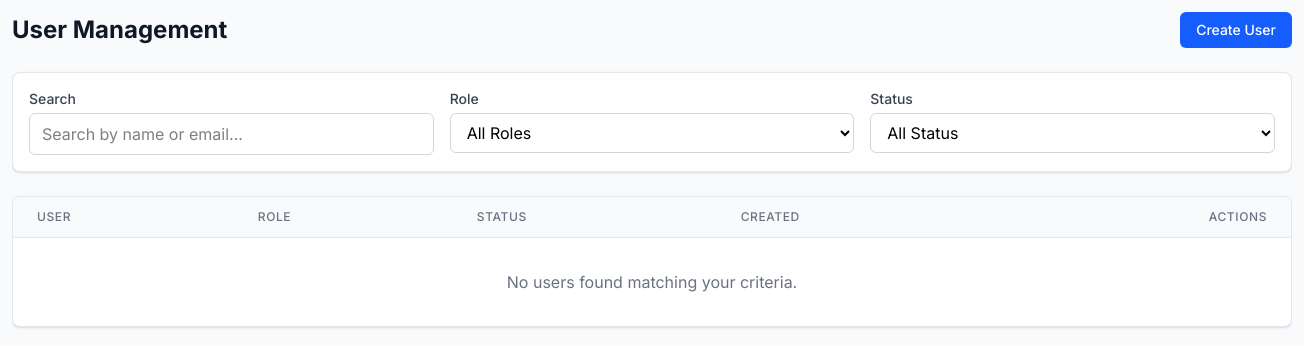
Test case: UserList › Filtering › filters users by role
The width and height of the screenshot is (1304, 345).
Step 1. Select "Client" in the dropdown showing "All Roles" → [652, 133], box [450, 113, 854, 153]
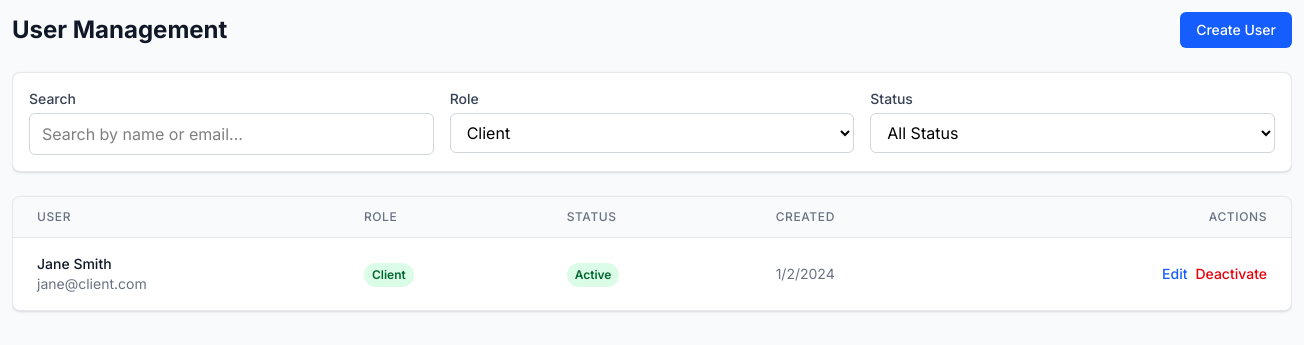
Expected: the text "jane@client.com" is shown, [37, 275, 147, 292]
